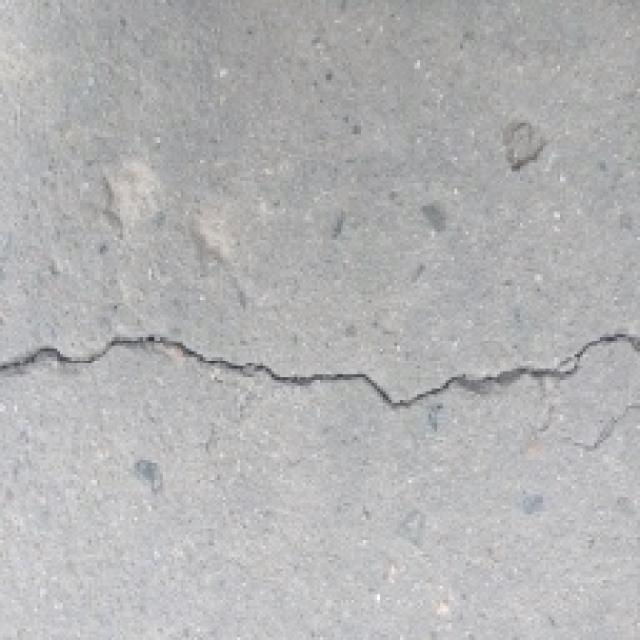crack: (0, 310, 640, 434)
